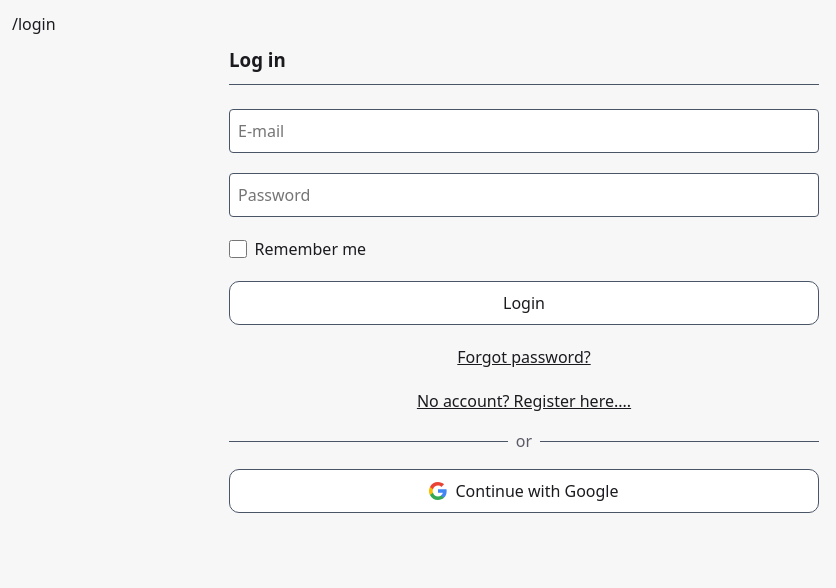
Test: LoginPage › shows one non-disclosing message on an authentication failure
This screenshot has width=836, height=588.
In the field labelled "E-mail": (524,131) [229,109,819,153], type "ada@example.com"
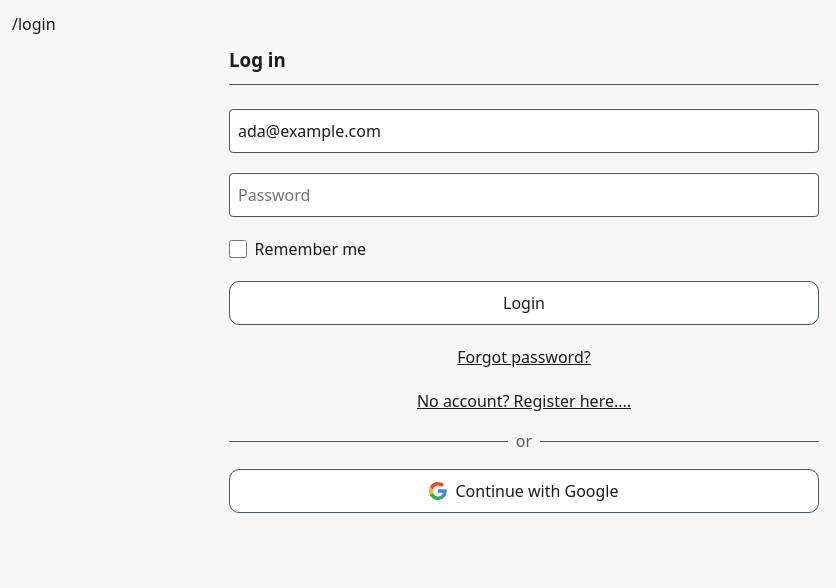
In the password field labelled "Password": (524,195) [229,173,819,217], type "WrongPass1"
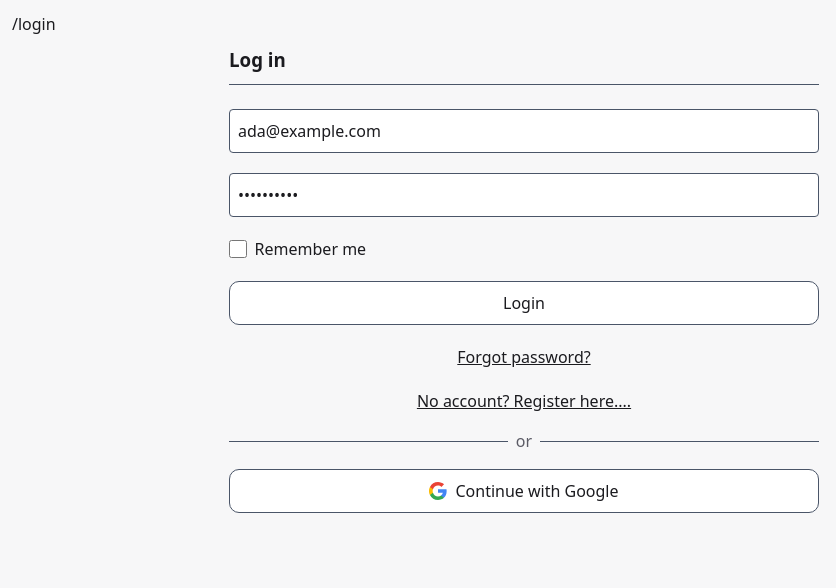
Click the button "Login": (524,303) [229,281,819,325]
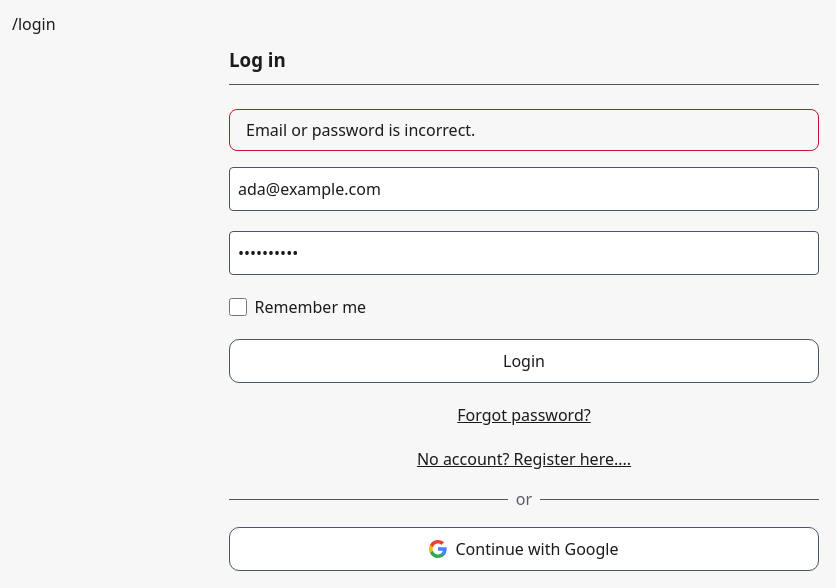
Expected: the text "Email or password is incorrect." is shown, [229,109,819,151]
